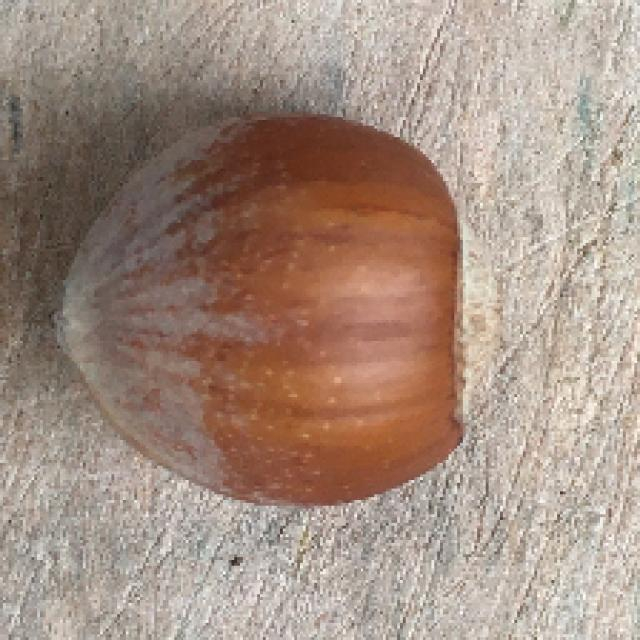qualityHazelnut: (57, 111, 482, 508)
